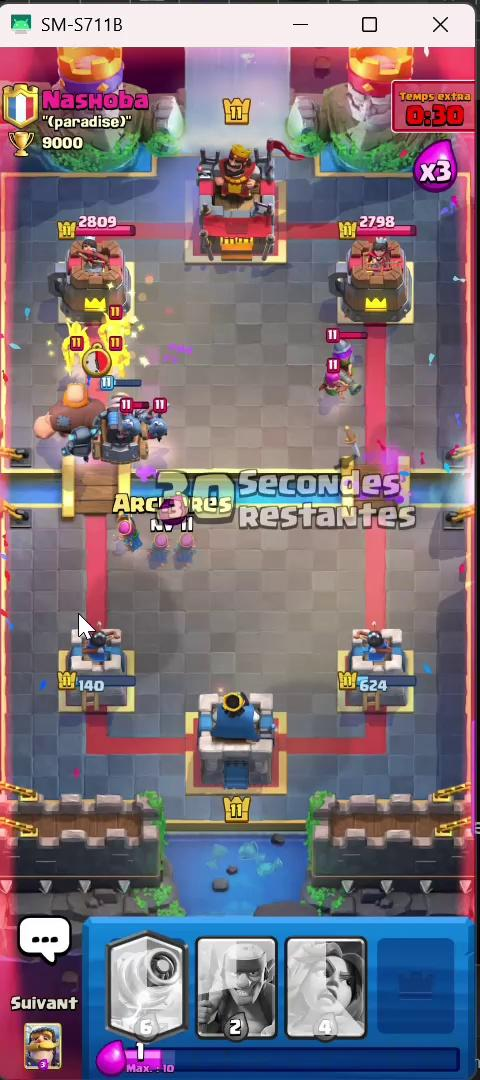archere: (108, 508, 146, 556), (170, 530, 198, 564), (149, 526, 173, 565), (313, 372, 350, 397)
gargouille: (144, 392, 175, 466), (125, 403, 146, 431)
geant: (34, 362, 103, 444)
gobelin: (99, 312, 149, 343), (55, 333, 91, 364), (111, 338, 136, 374)
mini_PEKKA: (58, 426, 102, 464)
mousquetaire: (315, 322, 364, 380)
zappy: (88, 382, 160, 469)
